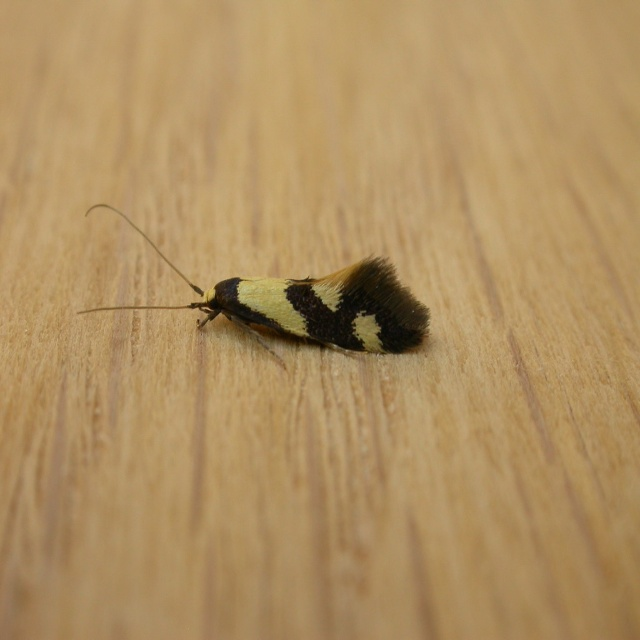Moths and butterflies: (75, 200, 432, 375)
